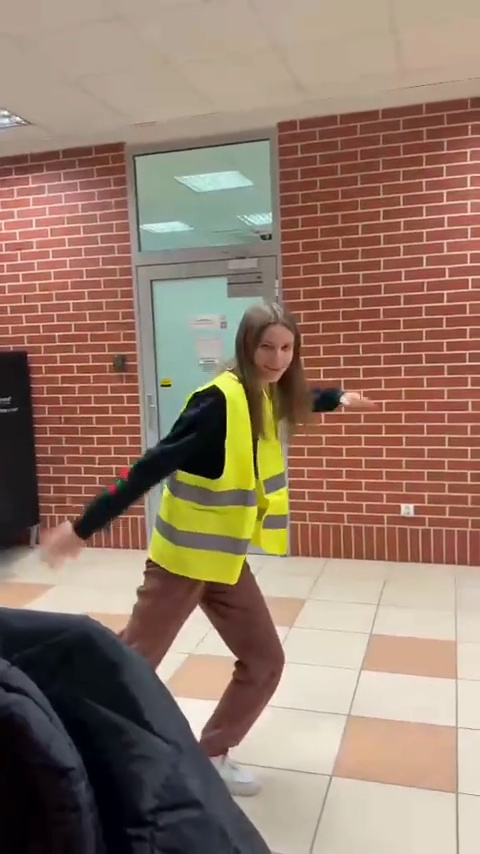vest: (166, 298, 317, 764)
